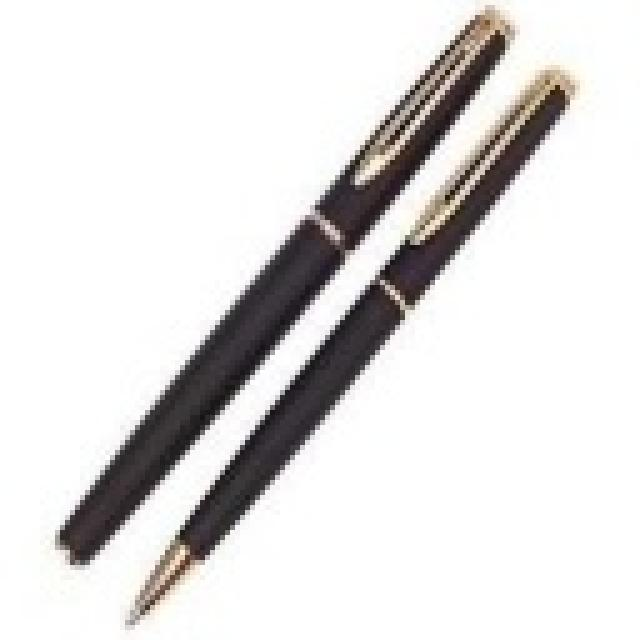pen: (51, 6, 526, 574), (118, 60, 581, 635)
